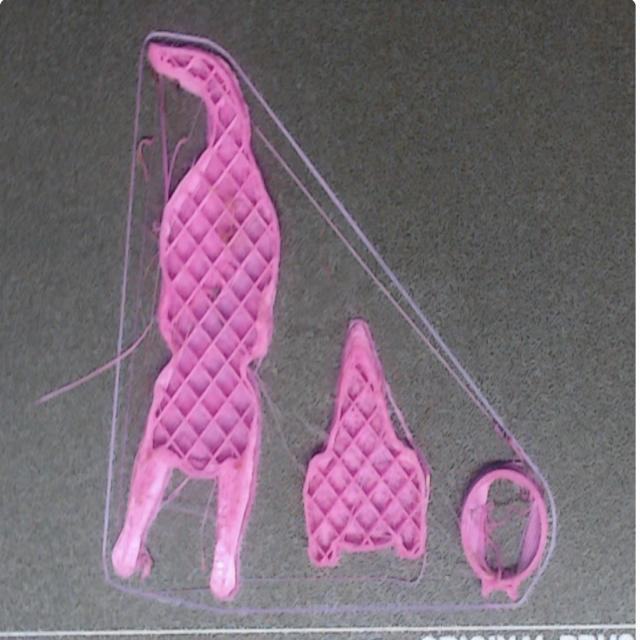mistake: (231, 60, 557, 604), (112, 43, 280, 599), (38, 321, 154, 403), (316, 458, 365, 561), (252, 365, 299, 469), (240, 563, 425, 589), (156, 73, 178, 204), (136, 253, 156, 323), (461, 508, 485, 560), (200, 485, 214, 574), (486, 501, 501, 582), (389, 391, 413, 440), (508, 508, 530, 544), (137, 136, 153, 179), (168, 477, 192, 500), (423, 468, 431, 498), (301, 421, 312, 435), (142, 558, 150, 577), (217, 66, 220, 74)
